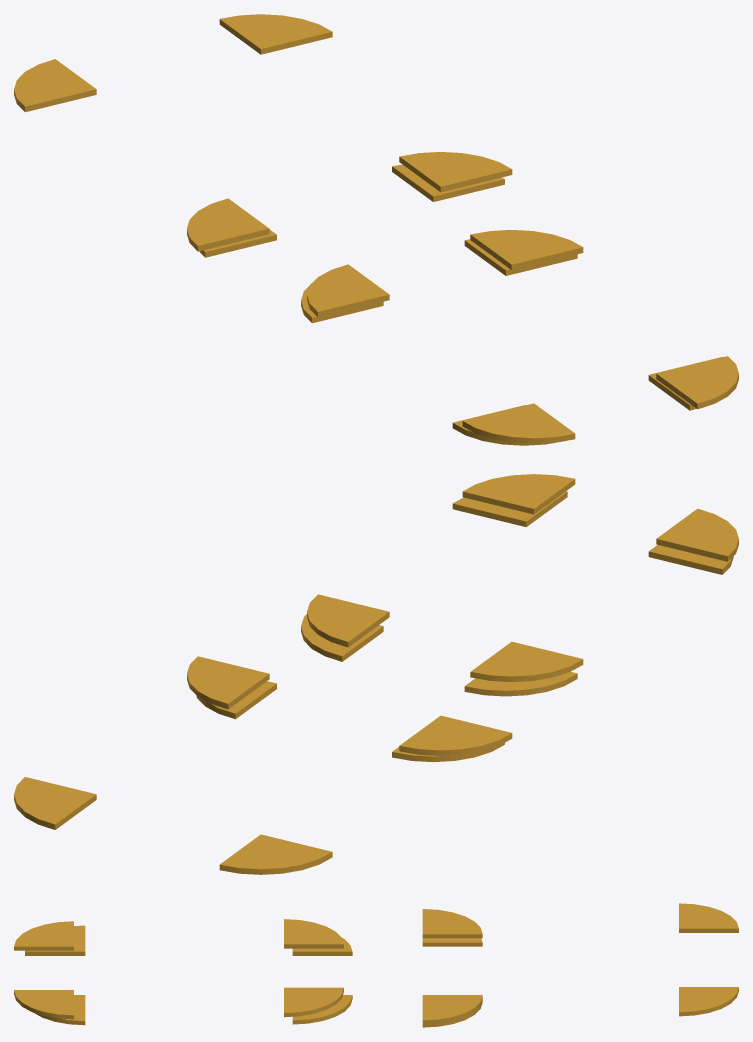
The model's file is frecce2.0.fbx.
3 renders of one model, top to bottom at view 1: azimuth 30°, elevation 25°; view 2: azimuth 150°, elevation 25°; view 3: azimuth 270°, elevation 25°, orthographic. The views are drawn at different scales.
Visible parts, largest first — view 1: LR5, RF1, LR1, RR3, LR3, LF1, RR5, RR1, LR4, LR2; view 2: LF1, LR3, RR5, RR1, RR3, RF1, LR5, LR1, RR2, LR2, RF4, LF4 (+3 smaller); view 3: LR3, LR1, RR1, RR3, RF1, RR5, LF1, LR5, LR2, RR4, RR2, LF4 (+2 smaller).
Boxes of the visible parts, box(x1,y1,x2,y2) form: LR5: box(219, 14, 332, 54); RF1: box(462, 403, 575, 443); LR1: box(470, 230, 583, 270); RR3: box(399, 152, 512, 192); LR3: box(187, 198, 269, 251); LF1: box(656, 356, 738, 409); RR5: box(14, 59, 96, 112); RR1: box(307, 264, 389, 317); LR4: box(392, 164, 504, 201); LR2: box(464, 239, 577, 275); LF1: box(462, 474, 575, 514); LR3: box(399, 715, 512, 755); RR5: box(219, 834, 332, 874); RR1: box(470, 641, 583, 681); RR3: box(187, 656, 269, 709); RF1: box(656, 508, 738, 561); LR5: box(14, 777, 96, 829); LR1: box(307, 594, 389, 647); RR2: box(464, 671, 577, 696); LR2: box(301, 614, 383, 661); RF4: box(651, 545, 733, 574); LF4: box(452, 497, 532, 526); LR3: box(422, 909, 482, 938); LR1: box(284, 987, 343, 1017); RR1: box(284, 919, 343, 948); RR3: box(422, 995, 482, 1024); RF1: box(14, 921, 73, 950); RR5: box(679, 903, 738, 932); LF1: box(14, 990, 73, 1019); LR5: box(679, 987, 738, 1016); LR2: box(292, 995, 352, 1024); RR4: box(422, 938, 482, 946); RR2: box(292, 938, 352, 955); LF4: box(34, 995, 85, 1025).
Size of the model in its own units: 1.92 by 0.1576 by 5.27.
